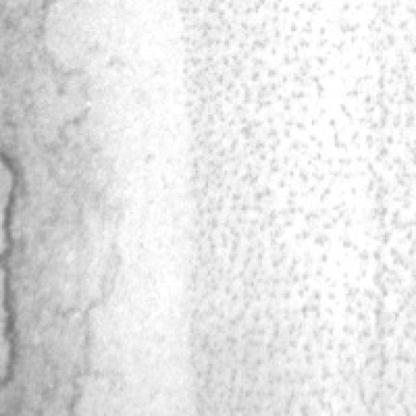pitted_surface: (179, 2, 414, 416), (23, 19, 116, 416)
